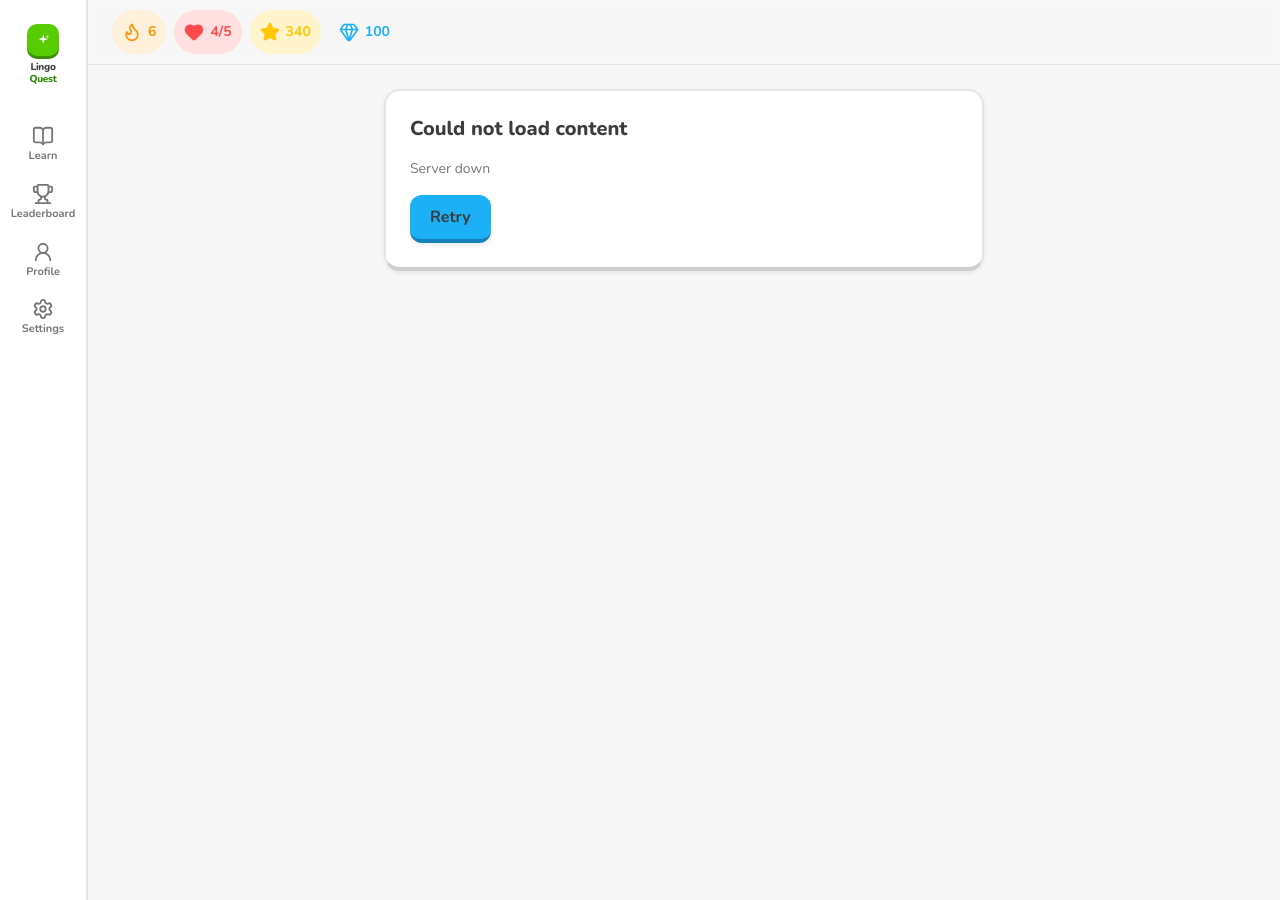
Phase 11B content manager › supports loading error retry
This screenshot has width=1280, height=900.
Expected: the heading "Could not load content" is shown, [410, 115, 628, 142]
Click the button "Retry". click: (450,219)
box: [410, 195, 491, 243]
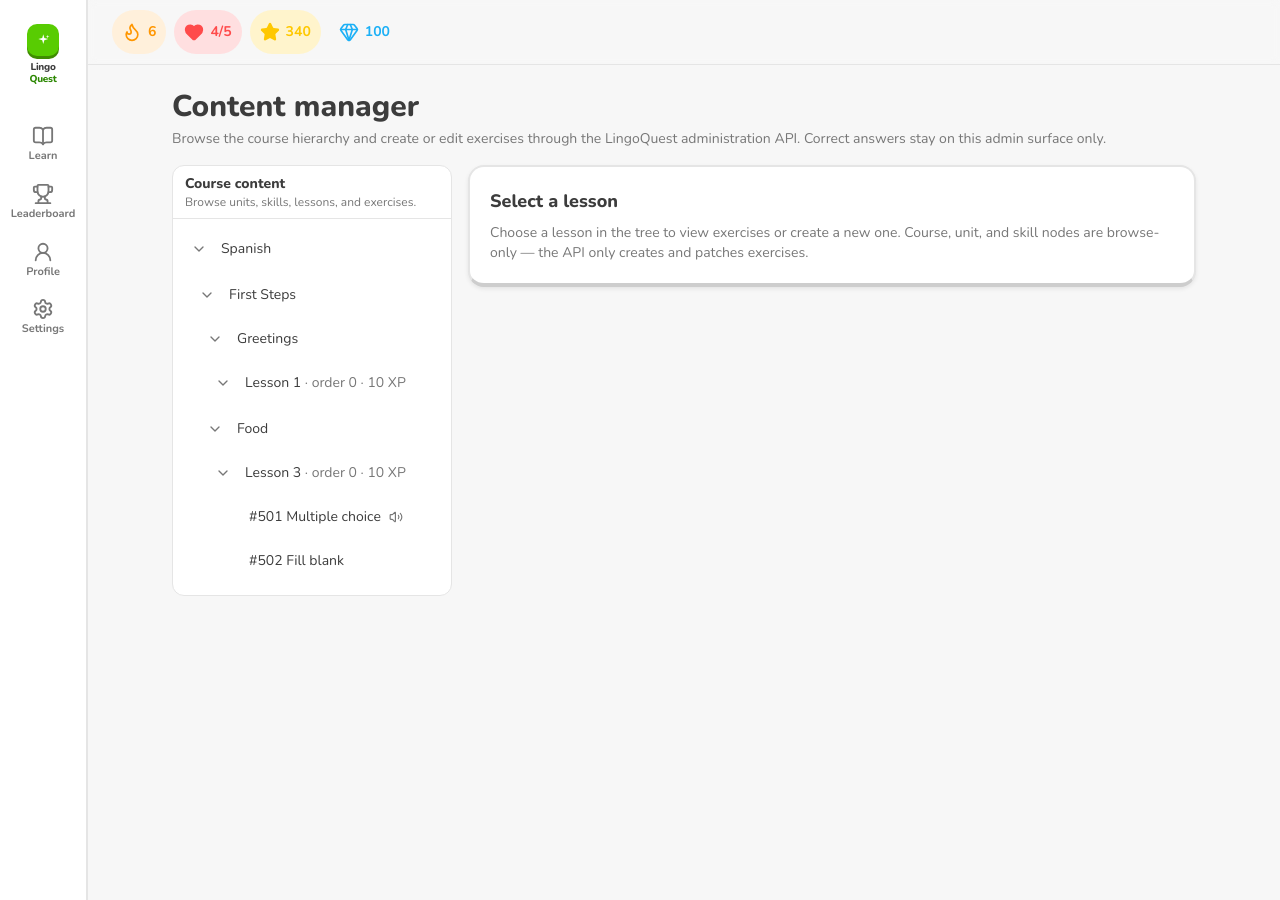
Expected: the heading "Content manager" is shown, [172, 86, 419, 127]
